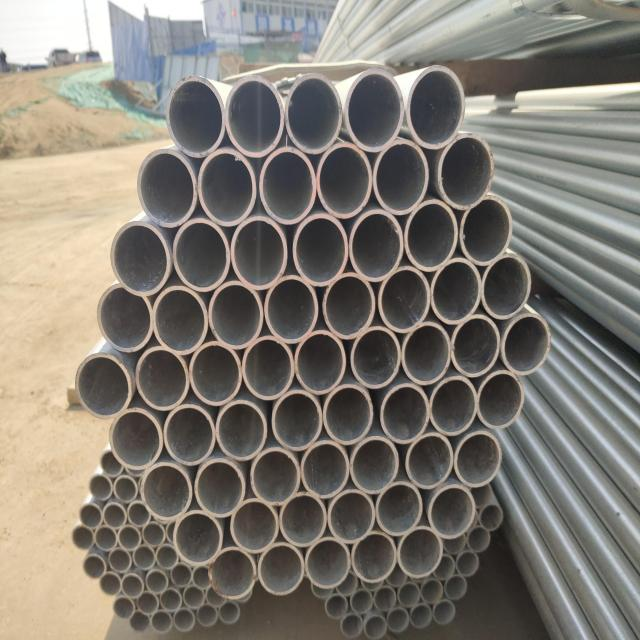pipe: (222, 72, 288, 159), (343, 66, 406, 155), (405, 62, 467, 152), (195, 146, 261, 228), (166, 74, 227, 160), (136, 147, 199, 230), (284, 70, 344, 156), (436, 130, 498, 211), (169, 216, 233, 294), (260, 144, 320, 227), (109, 219, 172, 298), (314, 140, 375, 220), (229, 213, 289, 292), (347, 207, 407, 285), (372, 137, 430, 217), (292, 210, 351, 288), (150, 283, 210, 357), (96, 282, 156, 355), (206, 279, 266, 351), (261, 273, 320, 346), (74, 351, 135, 420), (404, 198, 459, 273), (459, 194, 514, 268), (377, 264, 433, 336), (134, 344, 191, 414), (321, 270, 377, 341), (428, 255, 483, 327), (187, 339, 244, 408), (240, 334, 297, 403), (348, 324, 404, 392), (269, 387, 326, 453), (214, 398, 271, 463), (162, 402, 218, 468), (109, 406, 164, 472), (481, 251, 532, 322), (294, 328, 347, 396), (400, 320, 453, 388), (138, 461, 194, 524), (192, 457, 248, 520), (450, 312, 503, 378), (499, 312, 552, 378), (322, 381, 375, 447), (379, 381, 432, 446), (427, 374, 479, 438), (248, 446, 302, 507), (348, 434, 401, 495), (299, 438, 351, 500), (476, 368, 526, 431), (404, 431, 456, 490), (452, 428, 503, 488), (229, 495, 280, 555), (172, 508, 224, 566), (426, 482, 476, 541), (279, 489, 328, 549), (207, 545, 258, 602), (326, 488, 376, 546), (374, 479, 424, 537), (256, 540, 305, 598), (395, 525, 444, 580), (350, 529, 398, 584), (305, 535, 352, 591), (112, 473, 139, 504), (87, 472, 114, 502), (125, 499, 152, 529), (102, 501, 128, 531), (106, 545, 132, 575), (154, 542, 180, 571), (478, 503, 504, 532), (99, 448, 124, 478), (466, 526, 492, 554), (93, 524, 118, 553), (117, 523, 142, 552), (455, 549, 480, 578), (78, 502, 104, 529), (70, 523, 95, 551), (141, 520, 166, 548), (111, 594, 136, 622), (82, 553, 107, 580), (120, 572, 145, 599), (350, 588, 375, 615), (339, 612, 364, 639), (132, 543, 156, 571), (145, 567, 169, 595), (159, 586, 183, 614), (182, 583, 206, 611), (432, 554, 456, 582), (324, 593, 348, 621), (397, 581, 421, 609), (409, 602, 433, 630), (98, 570, 122, 597), (169, 561, 193, 588), (420, 578, 444, 605), (444, 574, 468, 601), (432, 599, 456, 626), (136, 590, 160, 616), (172, 608, 196, 634), (373, 586, 397, 612), (386, 607, 409, 634), (150, 609, 174, 634), (442, 532, 467, 556), (128, 608, 151, 634), (335, 571, 358, 597), (364, 614, 387, 640), (196, 602, 218, 628), (219, 600, 241, 625), (205, 585, 228, 608), (192, 564, 212, 590), (384, 573, 409, 589), (311, 582, 334, 599), (164, 518, 176, 546), (361, 579, 384, 592)
